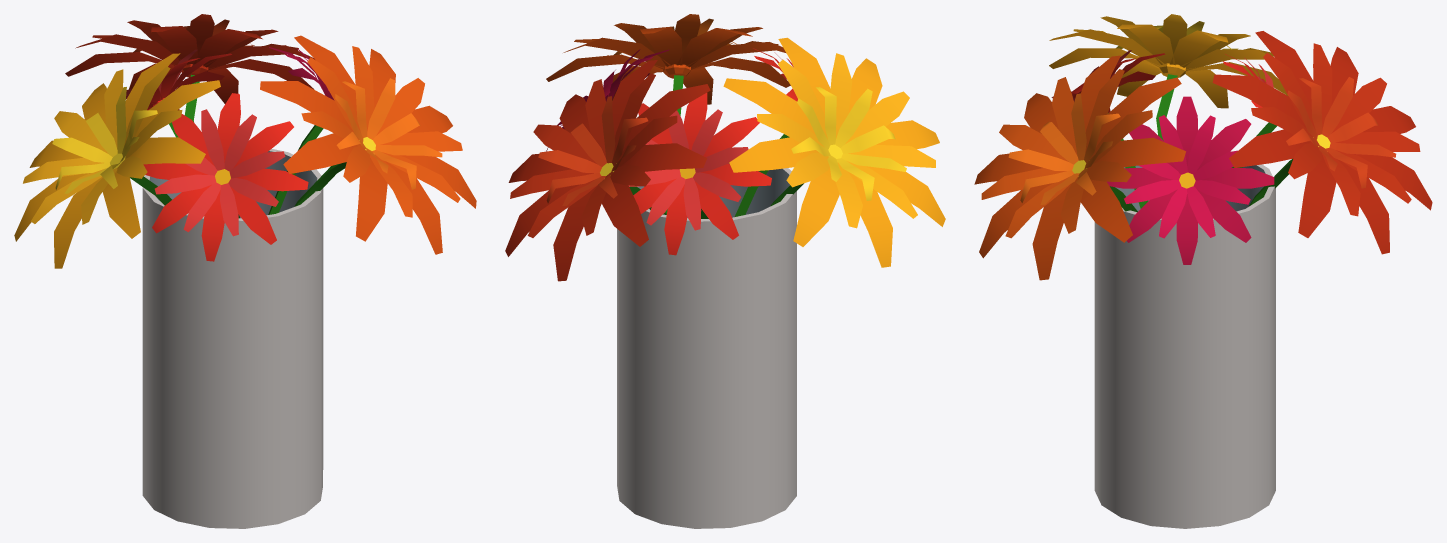
Rendered from SM_VaseFlowers_01.fbx.
3 views of the same model, side by side, from view 1: azimuth 30°, elevation 25°; view 2: azimuth 150°, elevation 25°; view 3: azimuth 270°, elevation 25° (orthographic).
Visible parts, largest first — view 1: SM_VaseFlowers_01; view 2: SM_VaseFlowers_01; view 3: SM_VaseFlowers_01.
Boxes of the visible parts, x1,y1,x2,y2 form: SM_VaseFlowers_01: [14, 14, 476, 528]; SM_VaseFlowers_01: [505, 14, 945, 528]; SM_VaseFlowers_01: [974, 14, 1432, 528].
Size of the model in its own units: 31.67 by 33.88 by 31.76.
